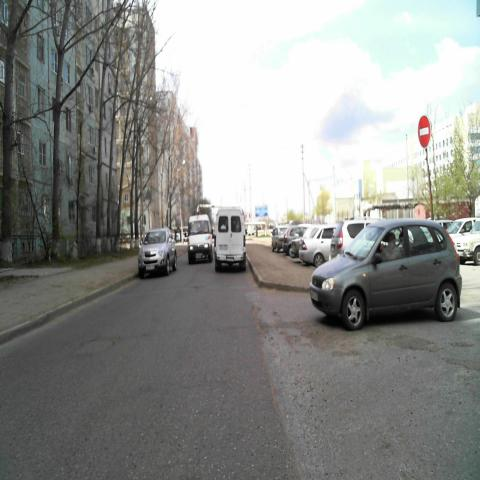3_1: (418, 115, 430, 149)
